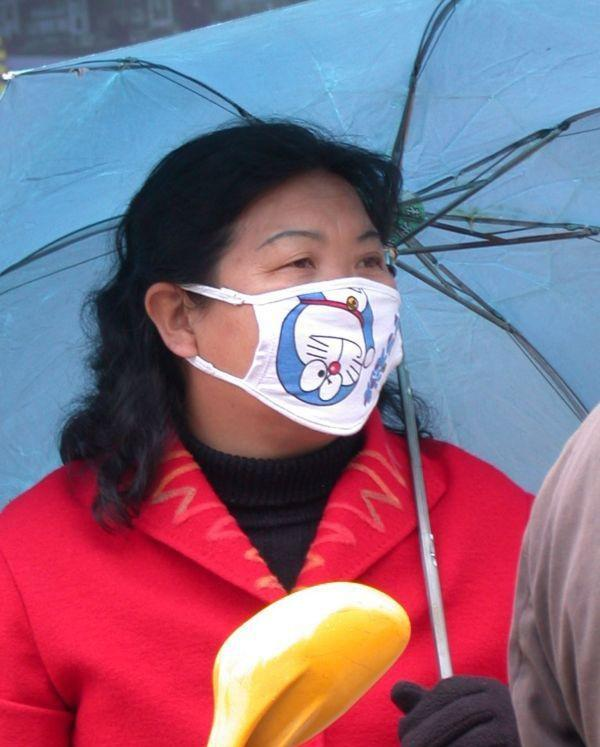OK: (182, 213, 399, 430)
